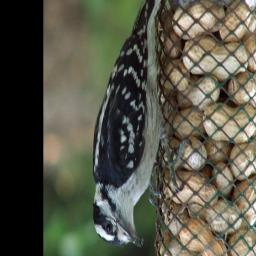Woodpecker: (80, 0, 186, 252)
